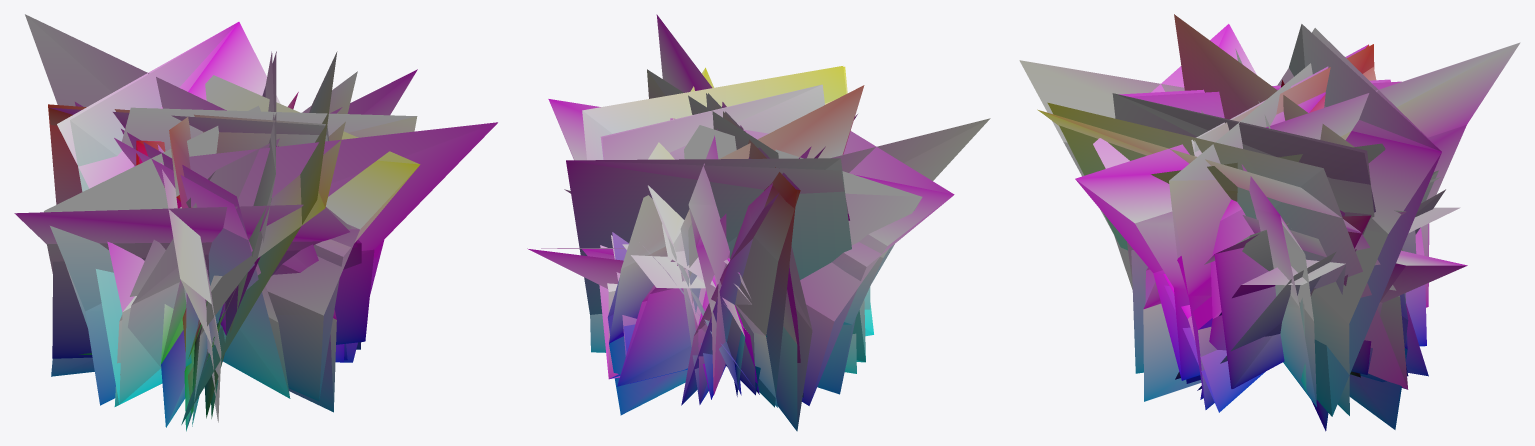
File: elderbush_01_a.dae
3 views of the same model, side by side, from view 1: azimuth 30°, elevation 25°; view 2: azimuth 150°, elevation 25°; view 3: azimuth 270°, elevation 25° (orthographic). The views are drawn at different scales.
Parts seen in each view (by area): view 1: elderbush64, elderbush128; view 2: elderbush64, elderbush128; view 3: elderbush64, elderbush128.
Part boxes in pixels (x1,y1,x2,y2): elderbush64: (14, 14, 497, 428); elderbush128: (47, 22, 420, 430); elderbush64: (527, 66, 990, 430); elderbush128: (541, 14, 954, 431); elderbush64: (1047, 14, 1466, 429); elderbush128: (1019, 24, 1520, 431).
Size of what is drawn, in the model's own units: 7.04 by 7.01 by 5.17.
